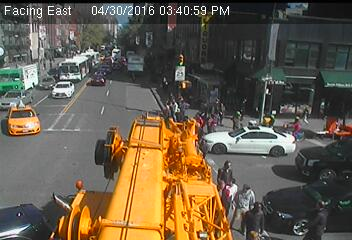neg: (318, 110, 347, 149), (283, 112, 308, 145), (50, 169, 71, 198), (112, 105, 133, 133), (115, 168, 135, 195), (73, 130, 92, 156), (235, 13, 254, 39), (271, 149, 289, 173), (200, 35, 216, 57), (199, 5, 215, 27), (250, 39, 266, 60), (168, 170, 184, 191), (132, 148, 148, 168), (29, 144, 43, 163), (290, 42, 304, 60), (48, 105, 62, 122), (167, 34, 180, 52), (89, 183, 102, 200), (28, 29, 41, 46), (55, 78, 67, 94), (319, 76, 331, 92), (129, 73, 140, 88), (97, 7, 108, 22), (35, 115, 46, 129), (84, 62, 94, 76), (62, 11, 72, 25), (113, 51, 123, 64), (134, 11, 143, 24), (141, 51, 149, 61)
pos: (228, 181, 262, 226), (212, 157, 244, 200), (214, 177, 246, 219), (302, 197, 331, 235), (156, 87, 185, 125), (242, 200, 267, 234), (228, 107, 247, 133), (235, 96, 252, 120), (206, 115, 220, 134), (208, 94, 221, 111)
